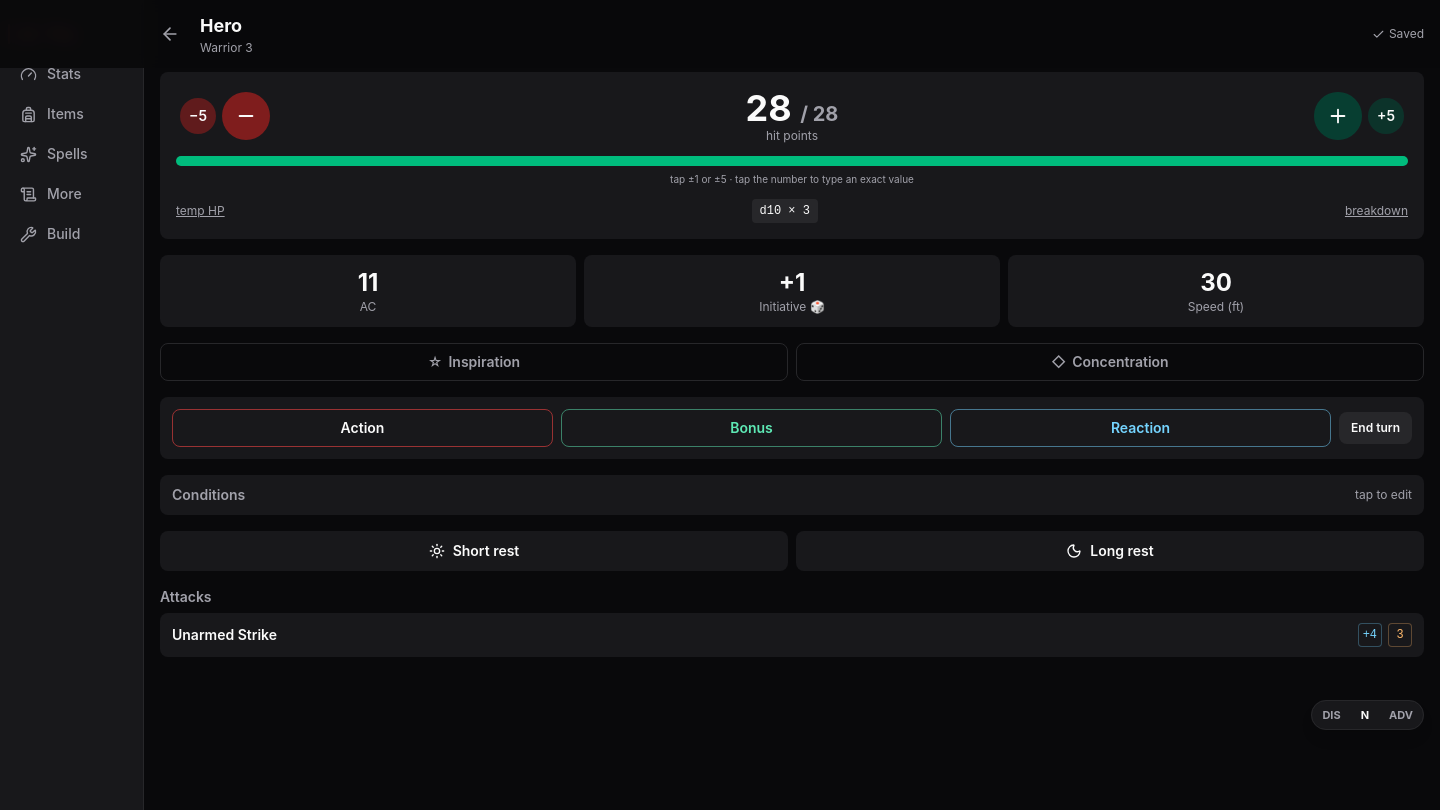
save announcements › says a failure once, however many edits keep failing, and the recovery once
Click the button named "Damage 1 hit point" at (246, 116), box left=222, top=92, right=270, bottom=140
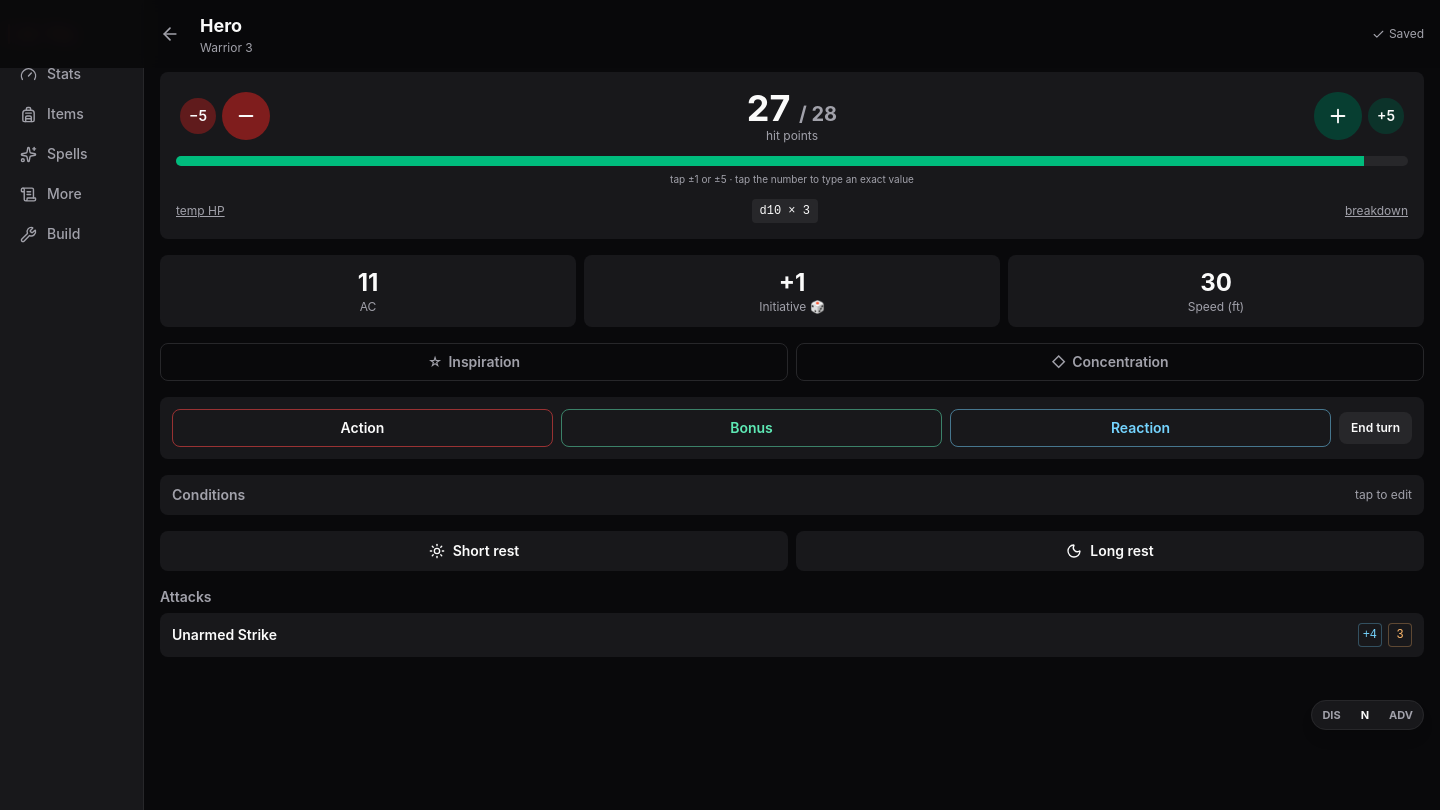
Click the button named "Damage 1 hit point" at (246, 116), box left=222, top=92, right=270, bottom=140
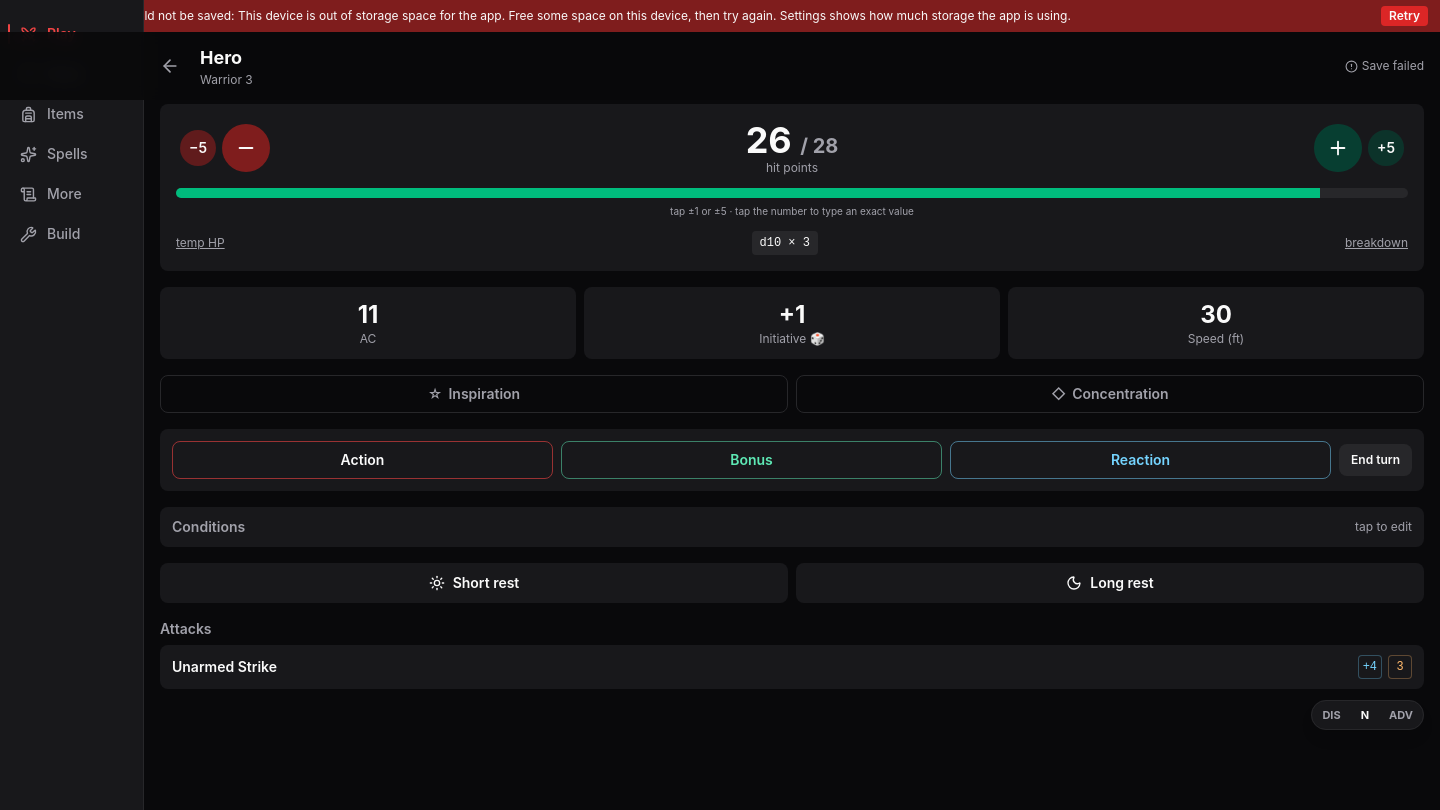
Click the button named "Damage 1 hit point" at (246, 148), box left=222, top=124, right=270, bottom=172
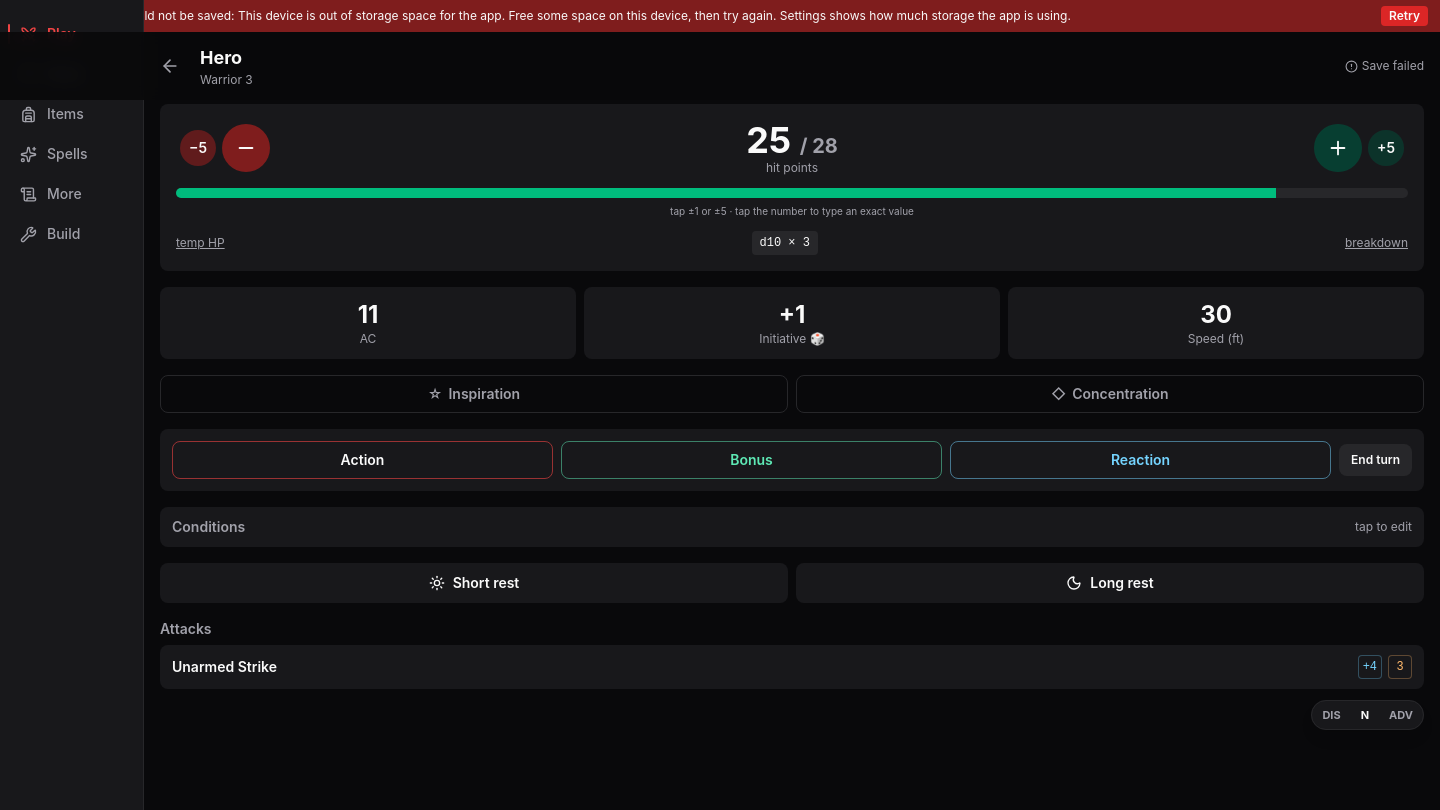
Click the button named "Damage 1 hit point" at (246, 148), box left=222, top=124, right=270, bottom=172
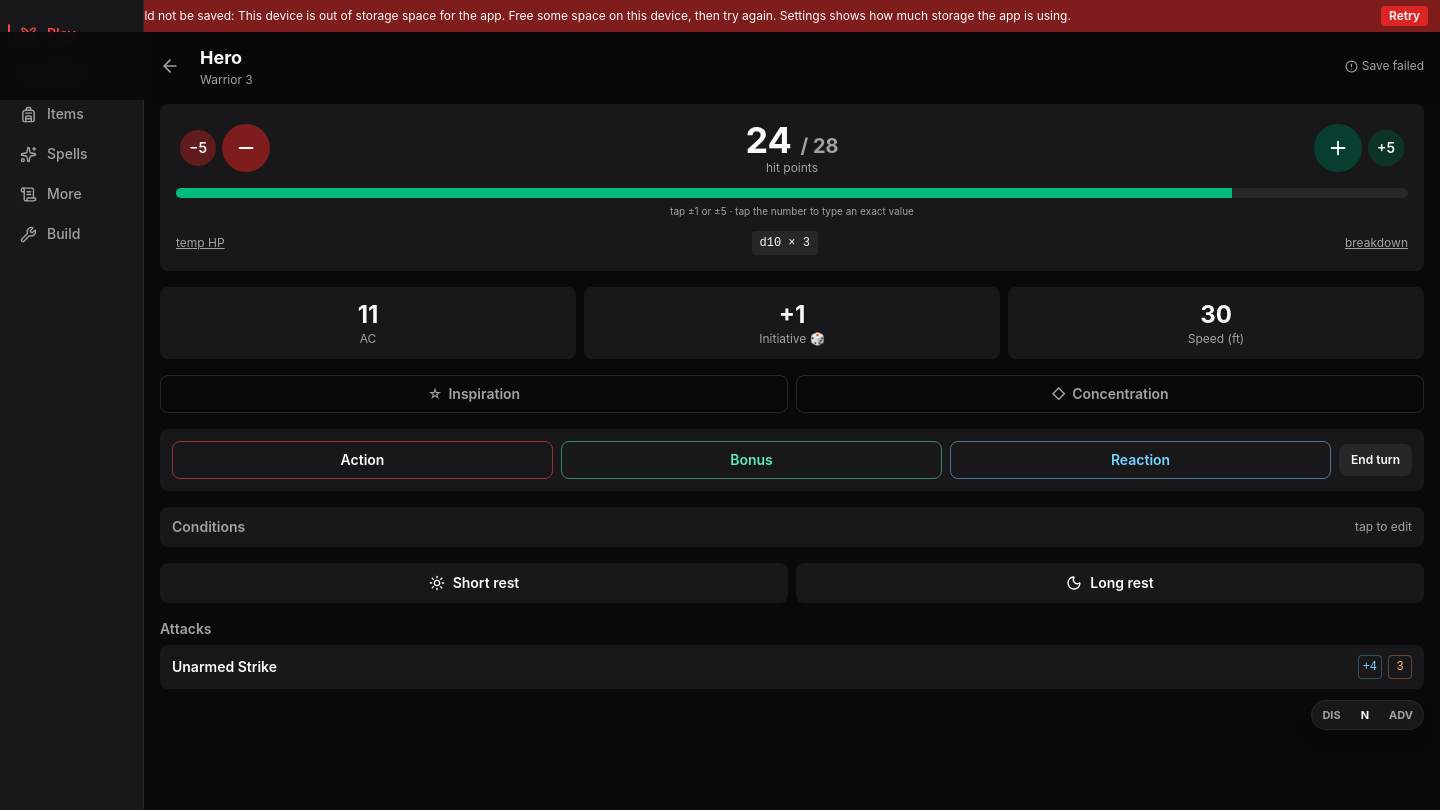
Click the button named "Damage 1 hit point" at (246, 148), box left=222, top=124, right=270, bottom=172
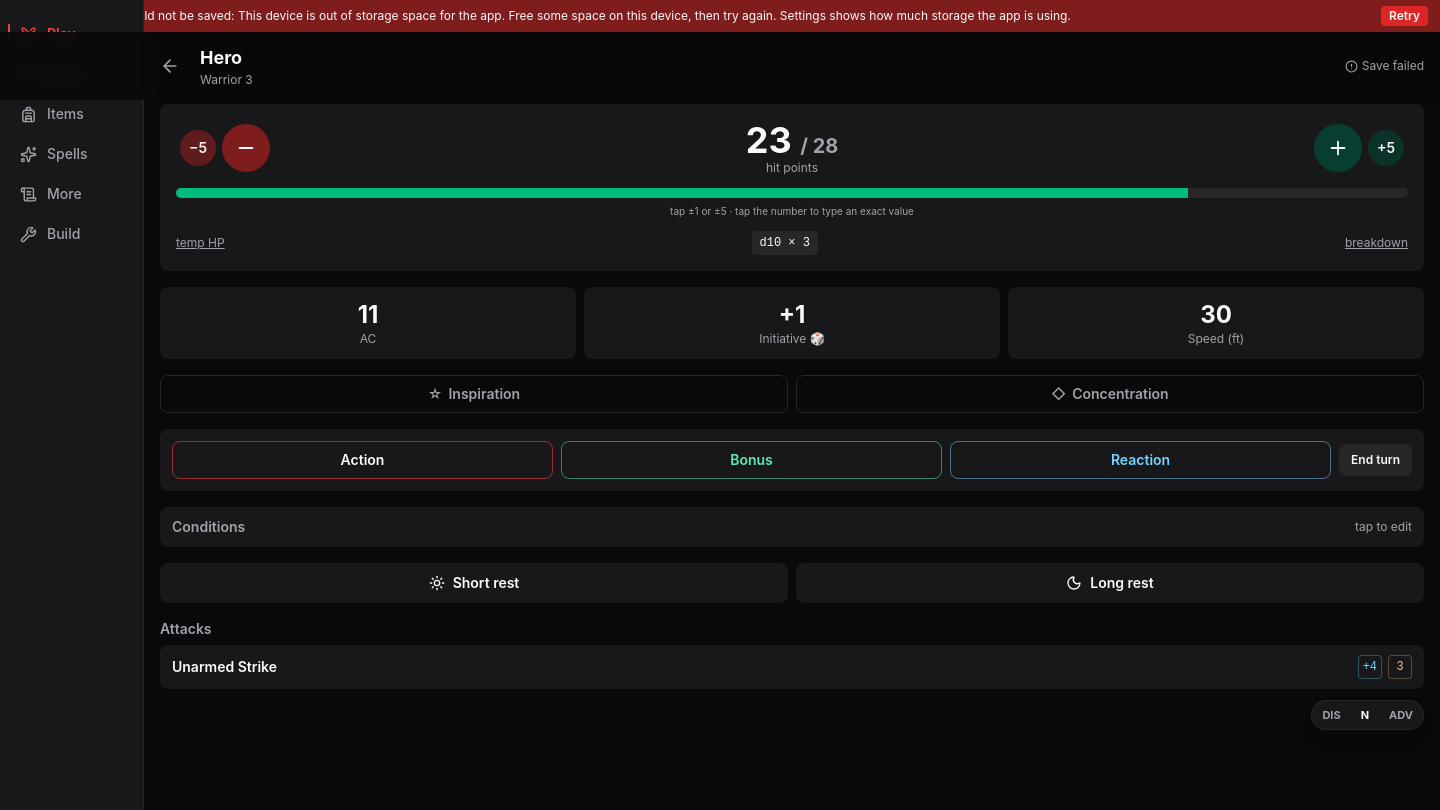
Expected: the text "Character changes could not be saved" is shown, left=12, top=8, right=231, bottom=23
Click the button "Retry" at (1404, 16), box left=1381, top=6, right=1428, bottom=26
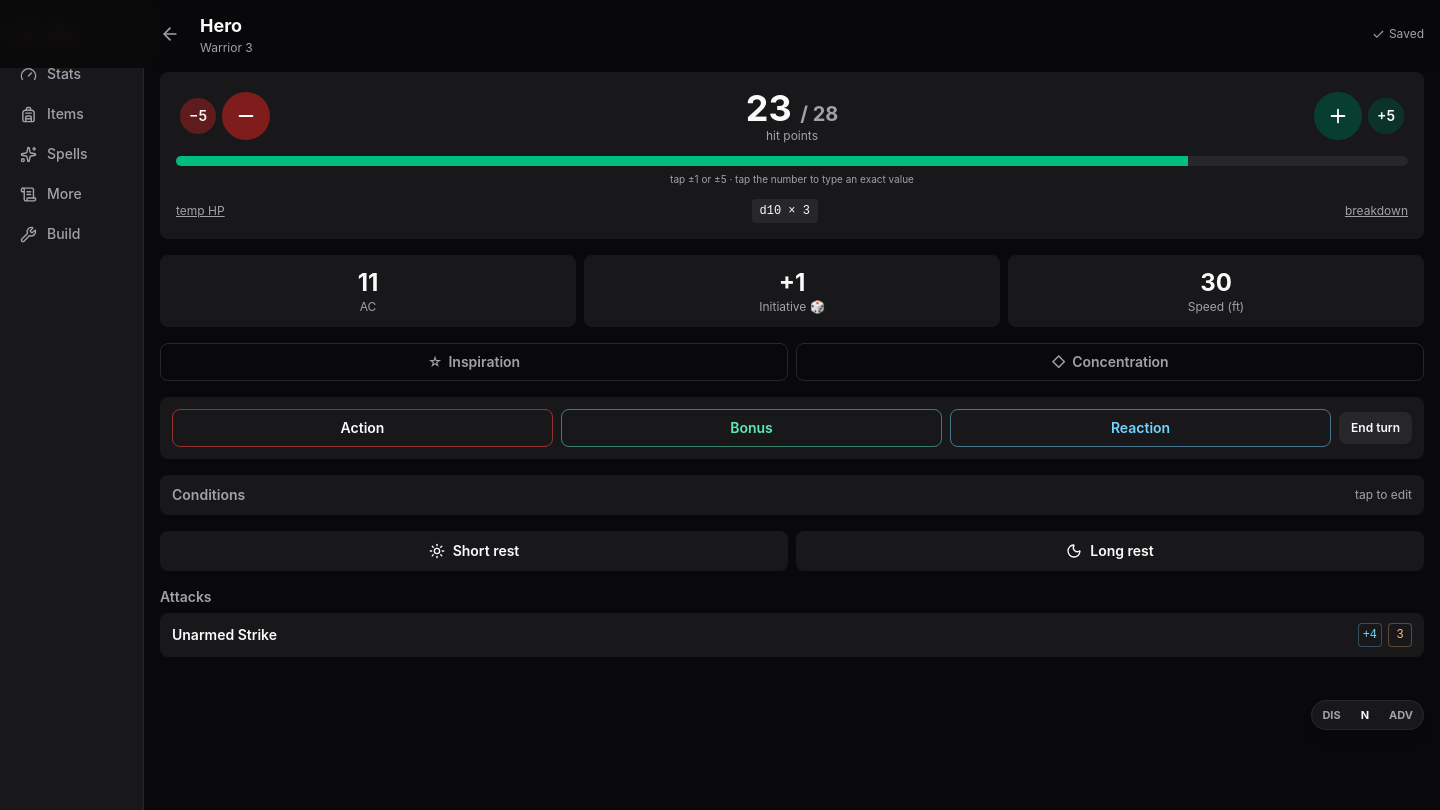
Expected: the message is gone
